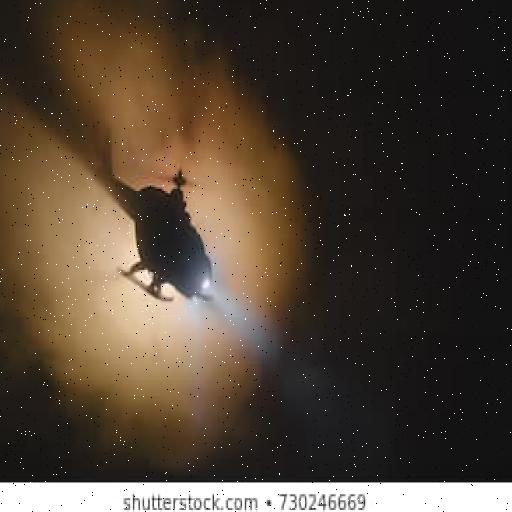helicopter: (88, 119, 236, 314)
